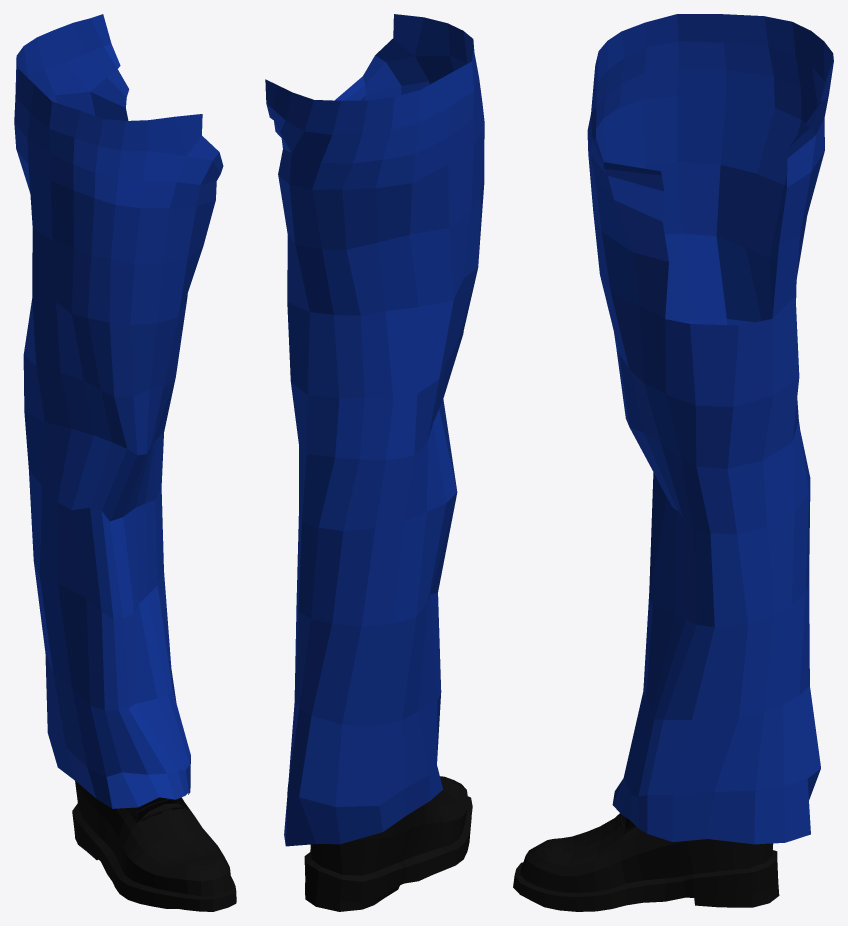
The model's file is pie_derecho.obj.
3 renders of one model, left to right at view 1: azimuth 30°, elevation 25°; view 2: azimuth 150°, elevation 25°; view 3: azimuth 270°, elevation 25°, orthographic. The views are drawn at different scales.
Visible parts, largest first — view 1: Worker.002; view 2: Worker.002; view 3: Worker.002.
Part boxes in pixels (x1,y1,x2,y2): Worker.002: [14, 14, 236, 911]; Worker.002: [265, 14, 484, 911]; Worker.002: [513, 14, 833, 911].
Bounding box in the file's own units: 0.1825 × 0.9614 × 0.3333.
